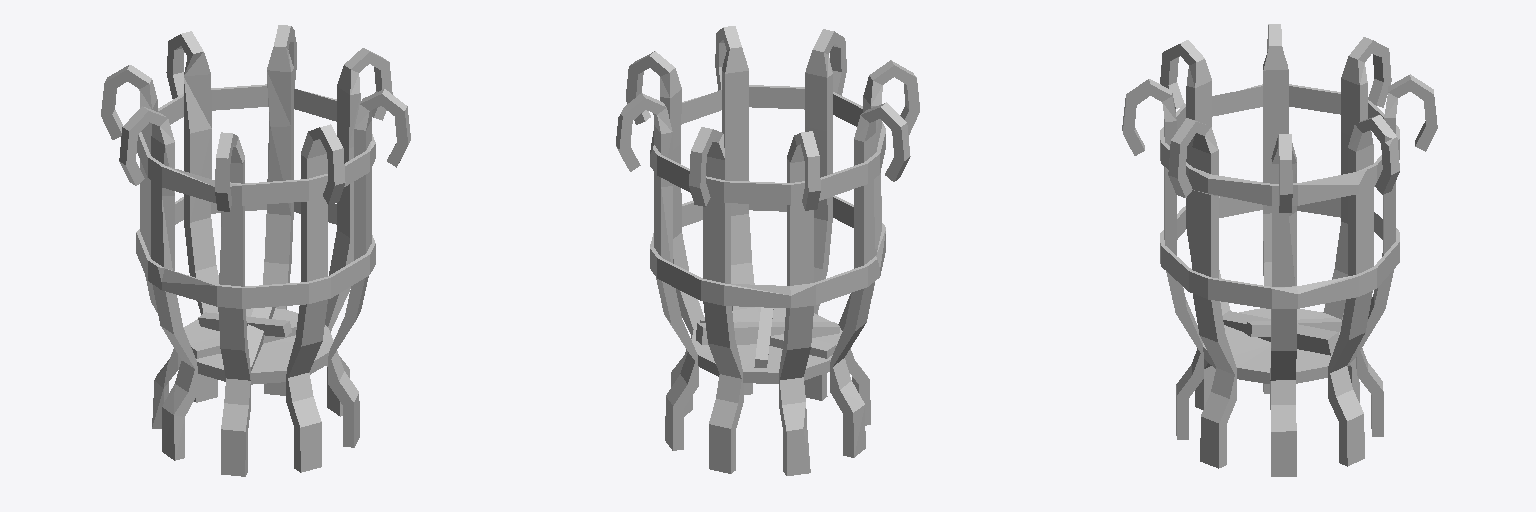
Rendered from FirePlace_2.obj.
3 views of the same model, side by side, from view 1: azimuth 30°, elevation 25°; view 2: azimuth 150°, elevation 25°; view 3: azimuth 270°, elevation 25° (orthographic).
Parts seen in each view (by area): view 1: FirePlace_2; view 2: FirePlace_2; view 3: FirePlace_2.
Boxes of the visible parts, x1,y1,x2,y2 form: FirePlace_2: [101, 25, 410, 476]; FirePlace_2: [616, 26, 919, 475]; FirePlace_2: [1122, 24, 1437, 476].
Bounding box in the file's own units: 0.6601 × 0.8167 × 0.6601.